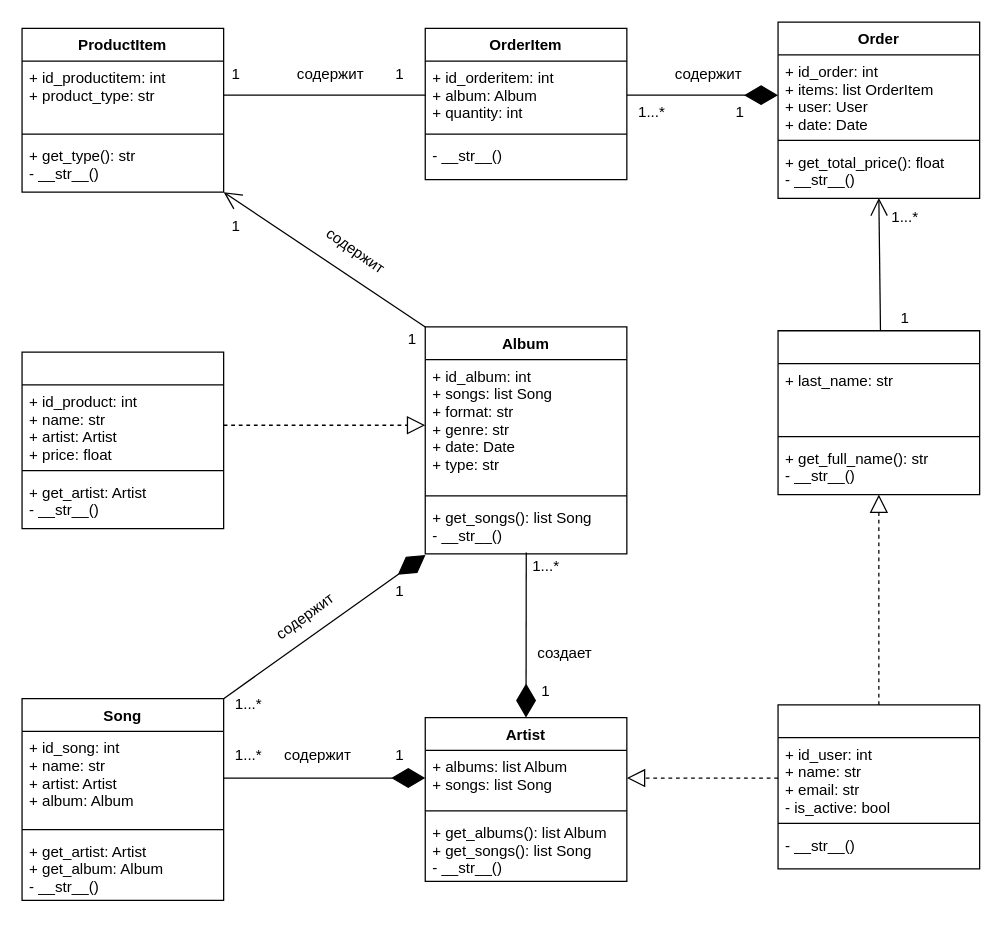
The diagram is 1002 pixels wide and 926 high, and some of its shapes have lost their labels. Each missing label, with the box of its shape:
AbstractProduct: (21, 351, 224, 529)
AbstractUser: (777, 704, 980, 869)
User: (777, 329, 980, 495)
